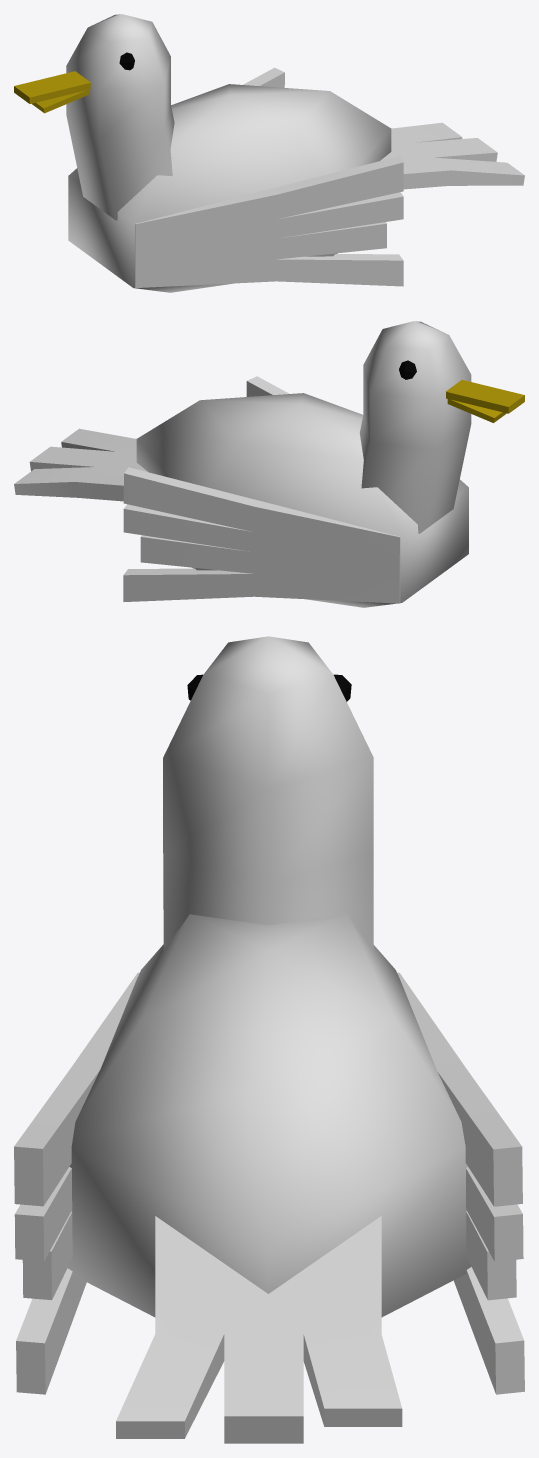
File: seagull_floating.fbx
3 renders of one model, top to bottom at view 1: azimuth 30°, elevation 25°; view 2: azimuth 150°, elevation 25°; view 3: azimuth 270°, elevation 25°, orthographic. The views are drawn at different scales.
Visible parts, largest first — view 1: seagull_floating; view 2: seagull_floating; view 3: seagull_floating.
Part boxes in pixels (x1,y1,x2,y2): seagull_floating: (14, 14, 524, 292); seagull_floating: (14, 321, 524, 607); seagull_floating: (14, 636, 524, 1443).
Size of the model in its own units: 6.19 by 3.7 by 3.
